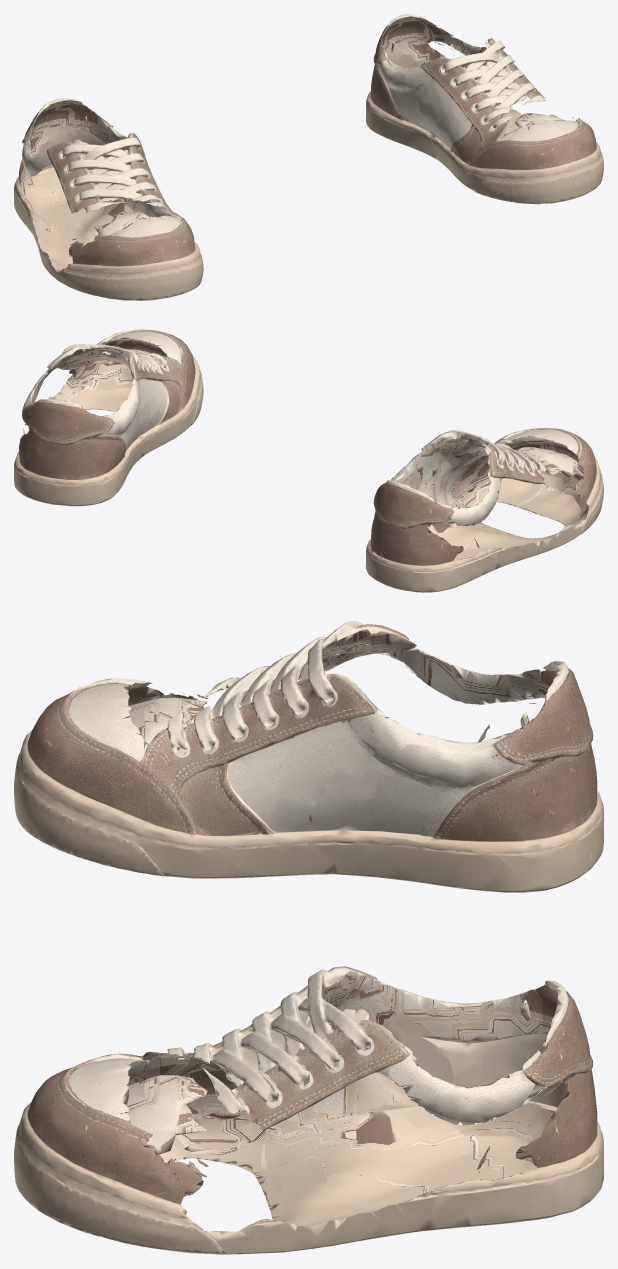
Rendered from shoes.glb.
3 views of the same model, one above another, from view 1: azimuth 30°, elevation 25°; view 2: azimuth 150°, elevation 25°; view 3: azimuth 270°, elevation 25° (orthographic). The views are drawn at different scales.
Visible parts, largest first — view 1: Shoes right, Shoes left; view 2: Shoes left, Shoes right; view 3: Shoes right, Shoes left.
Part boxes in pixels (x1=…): Shoes right: x1=365, y1=14, x2=603, y2=204; Shoes left: x1=14, y1=98, x2=203, y2=300; Shoes left: x1=365, y1=428, x2=603, y2=592; Shoes right: x1=14, y1=329, x2=203, y2=506; Shoes right: x1=14, y1=966, x2=603, y2=1254; Shoes left: x1=14, y1=621, x2=603, y2=892.
Size of the model in its own units: 0.6515 by 0.1232 by 0.3296.
1 material, 1 textured.
